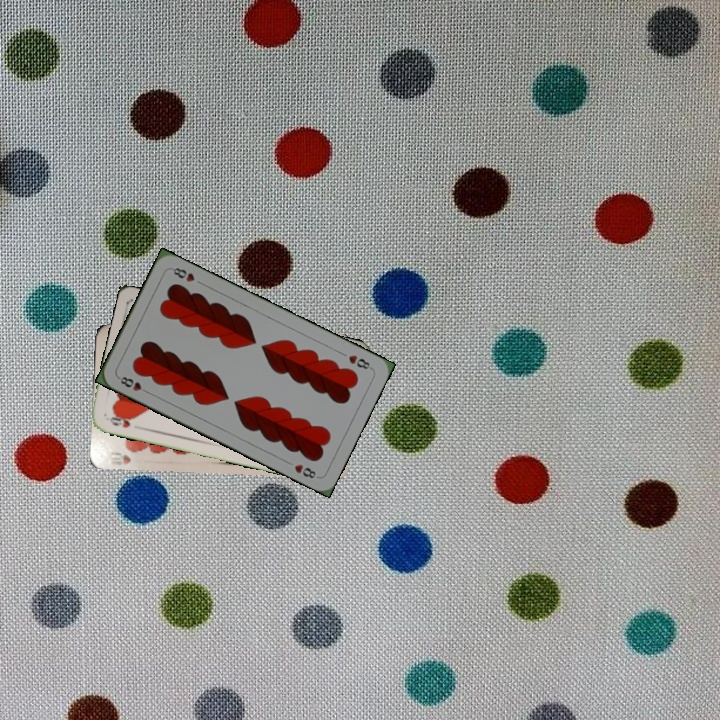H10: (104, 448, 133, 466)
H8: (114, 372, 152, 396), (344, 351, 375, 372)
HO: (104, 410, 137, 430)
